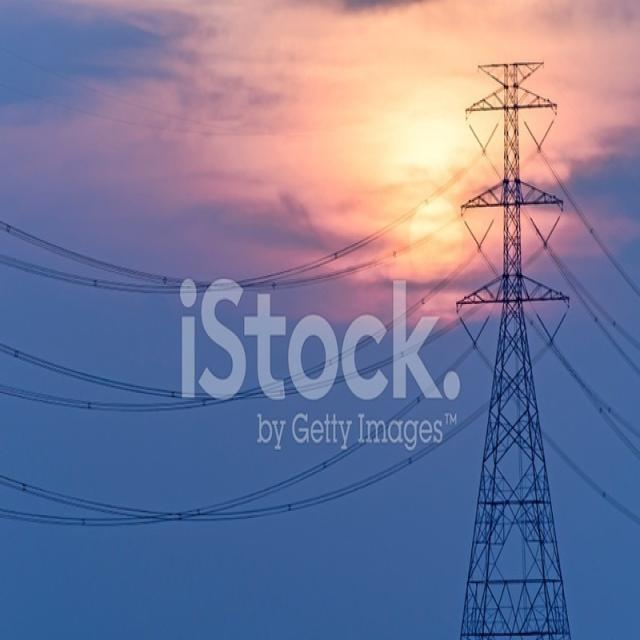non-critical vegetation: (466, 50, 582, 626)
